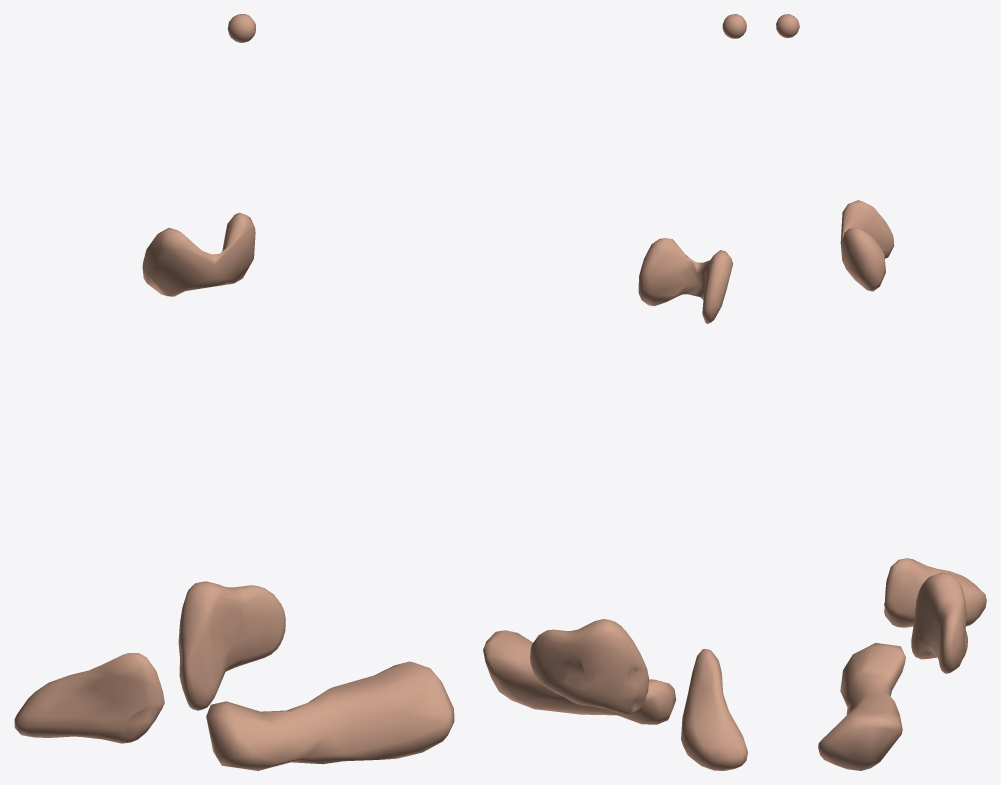
Rendered from pediatric_neonate_male.endocrine.LOD1.glb.
3 renders of one model, left to right at view 1: azimuth 30°, elevation 25°; view 2: azimuth 150°, elevation 25°; view 3: azimuth 270°, elevation 25°, orthographic. The views are drawn at different scales.
Visible parts, largest first — view 1: PEDIATRIC.NEONATE.MALE.ENDOCRINE.PANCREAS, PEDIATRIC.NEONATE.MALE.ENDOCRINE.ADRENAL.R, PEDIATRIC.NEONATE.MALE.ENDOCRINE.ADRENAL.L, PEDIATRIC.NEONATE.MALE.ENDOCRINE.THYROID; view 2: PEDIATRIC.NEONATE.MALE.ENDOCRINE.ADRENAL.L, PEDIATRIC.NEONATE.MALE.ENDOCRINE.PANCREAS, PEDIATRIC.NEONATE.MALE.ENDOCRINE.ADRENAL.R, PEDIATRIC.NEONATE.MALE.ENDOCRINE.THYROID, PEDIATRIC.NEONATE.MALE.ENDOCRINE.PITUITARY_GLAND; view 3: PEDIATRIC.NEONATE.MALE.ENDOCRINE.PANCREAS, PEDIATRIC.NEONATE.MALE.ENDOCRINE.ADRENAL.L, PEDIATRIC.NEONATE.MALE.ENDOCRINE.THYROID, PEDIATRIC.NEONATE.MALE.ENDOCRINE.ADRENAL.R, PEDIATRIC.NEONATE.MALE.ENDOCRINE.PITUITARY_GLAND.
Part boxes in pixels (x1,y1,x2,y2): PEDIATRIC.NEONATE.MALE.ENDOCRINE.PANCREAS: (206,661,454,770); PEDIATRIC.NEONATE.MALE.ENDOCRINE.ADRENAL.R: (14,653,164,743); PEDIATRIC.NEONATE.MALE.ENDOCRINE.ADRENAL.L: (178,581,285,710); PEDIATRIC.NEONATE.MALE.ENDOCRINE.THYROID: (142,212,255,296); PEDIATRIC.NEONATE.MALE.ENDOCRINE.ADRENAL.L: (530,619,648,715); PEDIATRIC.NEONATE.MALE.ENDOCRINE.PANCREAS: (483,630,675,724); PEDIATRIC.NEONATE.MALE.ENDOCRINE.ADRENAL.R: (681,649,747,770); PEDIATRIC.NEONATE.MALE.ENDOCRINE.THYROID: (638,238,732,323); PEDIATRIC.NEONATE.MALE.ENDOCRINE.PITUITARY_GLAND: (722,14,746,38); PEDIATRIC.NEONATE.MALE.ENDOCRINE.PANCREAS: (818,643,905,770); PEDIATRIC.NEONATE.MALE.ENDOCRINE.ADRENAL.L: (911,572,967,673); PEDIATRIC.NEONATE.MALE.ENDOCRINE.THYROID: (840,200,894,291); PEDIATRIC.NEONATE.MALE.ENDOCRINE.ADRENAL.R: (884,558,986,627); PEDIATRIC.NEONATE.MALE.ENDOCRINE.PITUITARY_GLAND: (776,14,799,37).
Bounding box in the file's own units: 0.0854 × 0.1855 × 0.0527.
